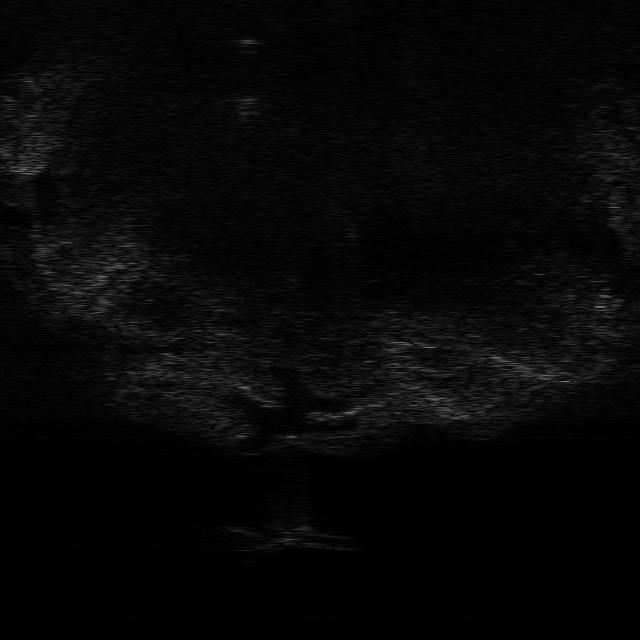plane: (229, 521, 355, 552)
